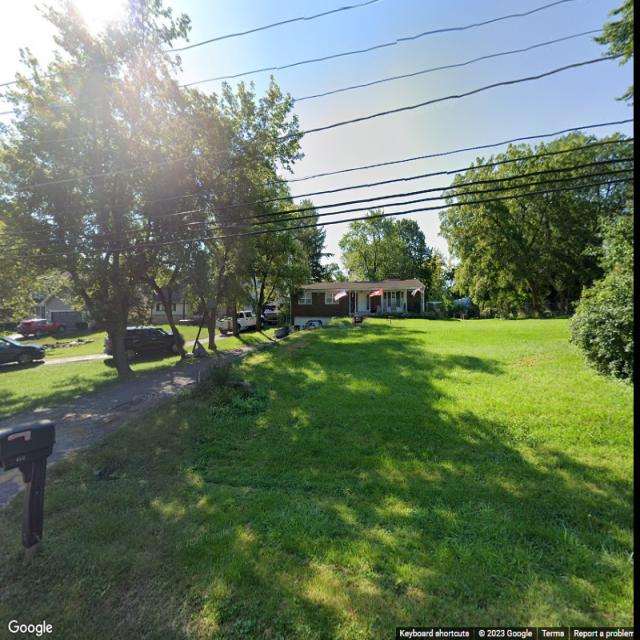House: (41, 278, 229, 334), (290, 279, 424, 328)
